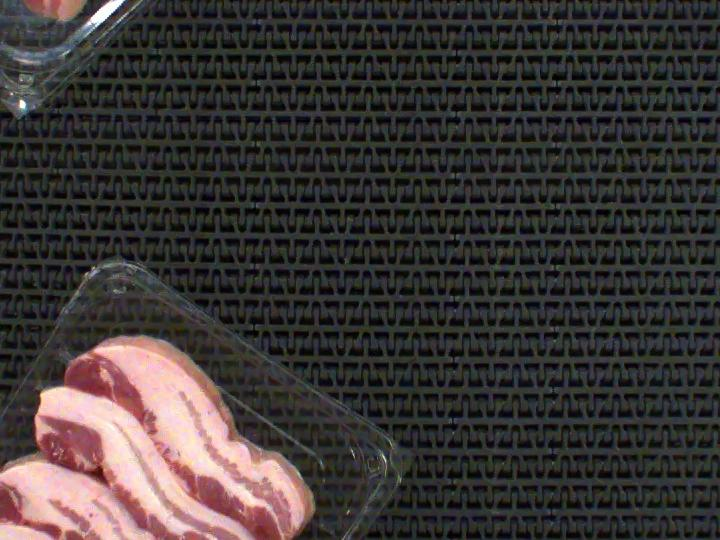packaging-error: (47, 337, 79, 371)
